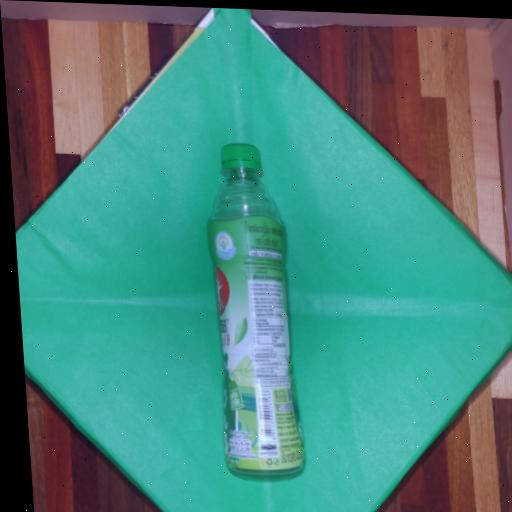bottle: (183, 125, 326, 503)
